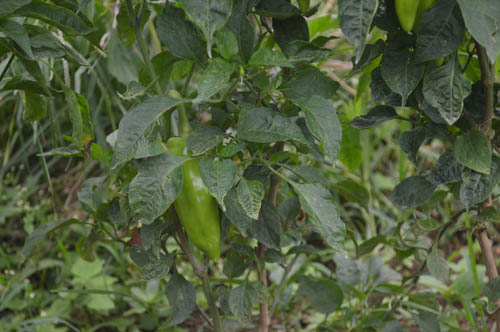ChiliPepper: (170, 138, 220, 258)
